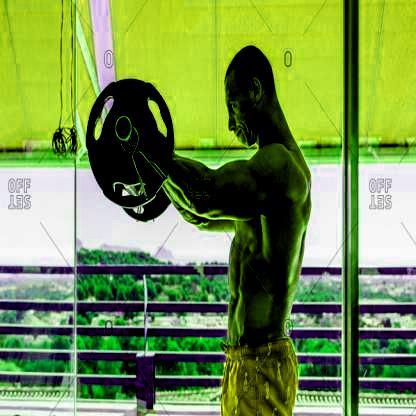Barbell: (114, 108, 137, 147)
